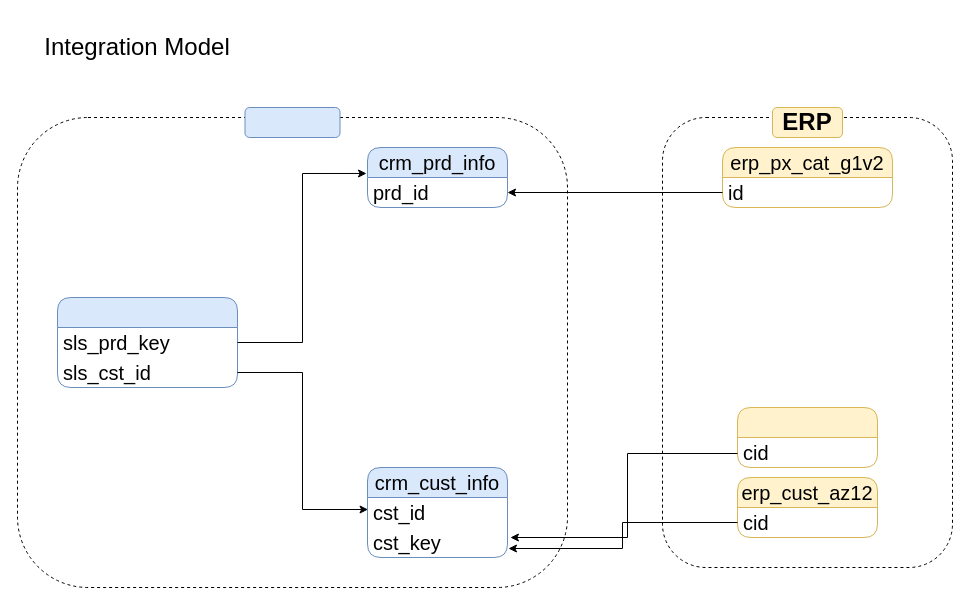
Image size: 970x605. Some labels were removed from this diagram. The box of each missing label's shape, as (x1, y1, x2, y2) in pixels:
CRM: (244, 106, 340, 138)
crm_sales_details: (56, 296, 238, 388)
erp_loc_a101: (736, 406, 878, 468)
